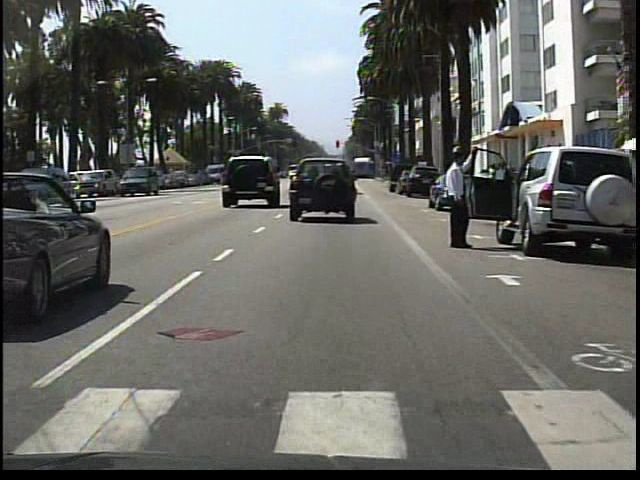person: (435, 142, 479, 258)
